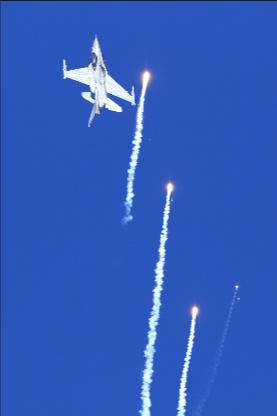F14: (61, 33, 134, 127)
